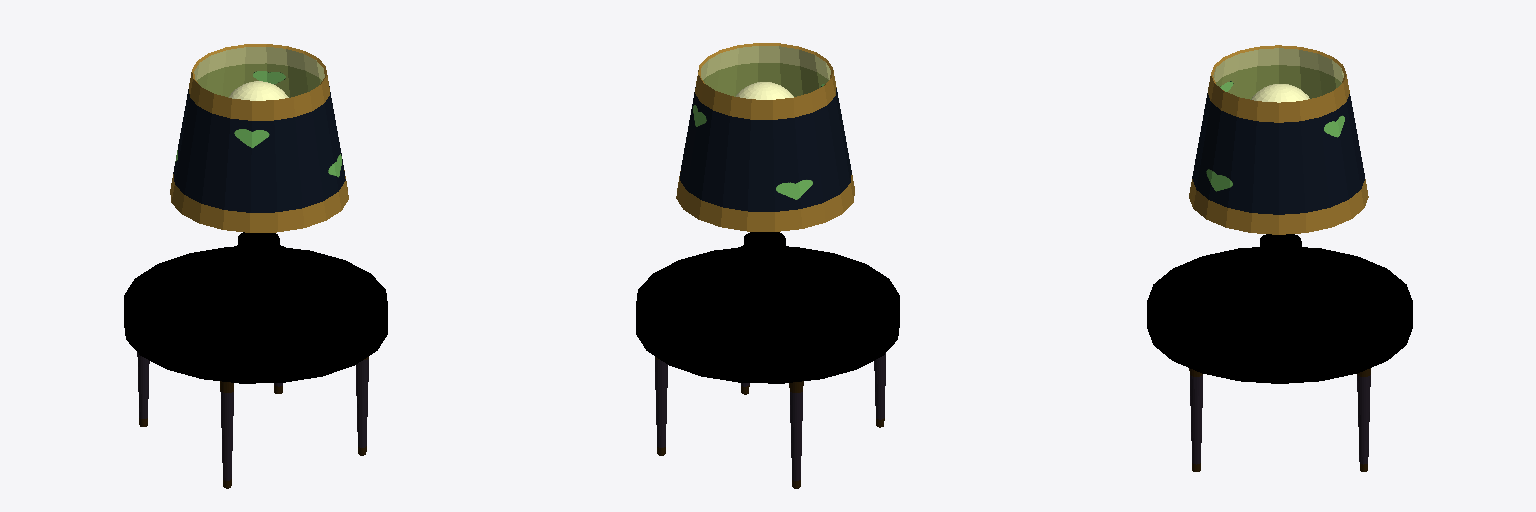
3 renders of one model, left to right at view 1: azimuth 30°, elevation 25°; view 2: azimuth 150°, elevation 25°; view 3: azimuth 270°, elevation 25°, orthographic.
Visible parts, largest first — view 1: pCylinder6, pCylinder1, pSphere1, pCylinder5, pCylinder2, pSphere2, pCylinder4; view 2: pCylinder6, pCylinder1, pSphere1, pCylinder4, pCylinder3, pSphere2, pCylinder5; view 3: pCylinder6, pCylinder1, pSphere1, pCylinder3, pCylinder2, pSphere2.
Part boxes in pixels (bbox=[...]): pCylinder6: bbox=[170, 44, 348, 232]; pCylinder1: bbox=[124, 247, 387, 383]; pSphere1: bbox=[192, 232, 324, 327]; pCylinder5: bbox=[220, 381, 233, 488]; pCylinder2: bbox=[356, 357, 368, 455]; pSphere2: bbox=[229, 81, 288, 100]; pCylinder4: bbox=[137, 352, 149, 426]; pCylinder6: bbox=[676, 43, 854, 231]; pCylinder1: bbox=[636, 247, 899, 383]; pSphere1: bbox=[698, 232, 830, 327]; pCylinder4: bbox=[789, 381, 803, 488]; pCylinder3: bbox=[655, 357, 667, 455]; pSphere2: bbox=[736, 82, 793, 99]; pCylinder5: bbox=[874, 353, 885, 427]; pCylinder6: bbox=[1189, 45, 1368, 234]; pCylinder1: bbox=[1147, 247, 1412, 383]; pSphere1: bbox=[1214, 234, 1346, 329]; pCylinder3: bbox=[1357, 368, 1370, 471]; pCylinder2: bbox=[1189, 368, 1202, 471]; pSphere2: bbox=[1251, 84, 1309, 102].
Bounding box in the file's own units: 1.7 × 2.59 × 1.7.
Materials: 6 (4 with a texture image).